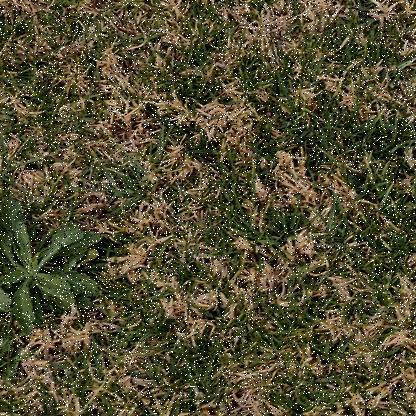Weeds: (0, 193, 106, 335)
